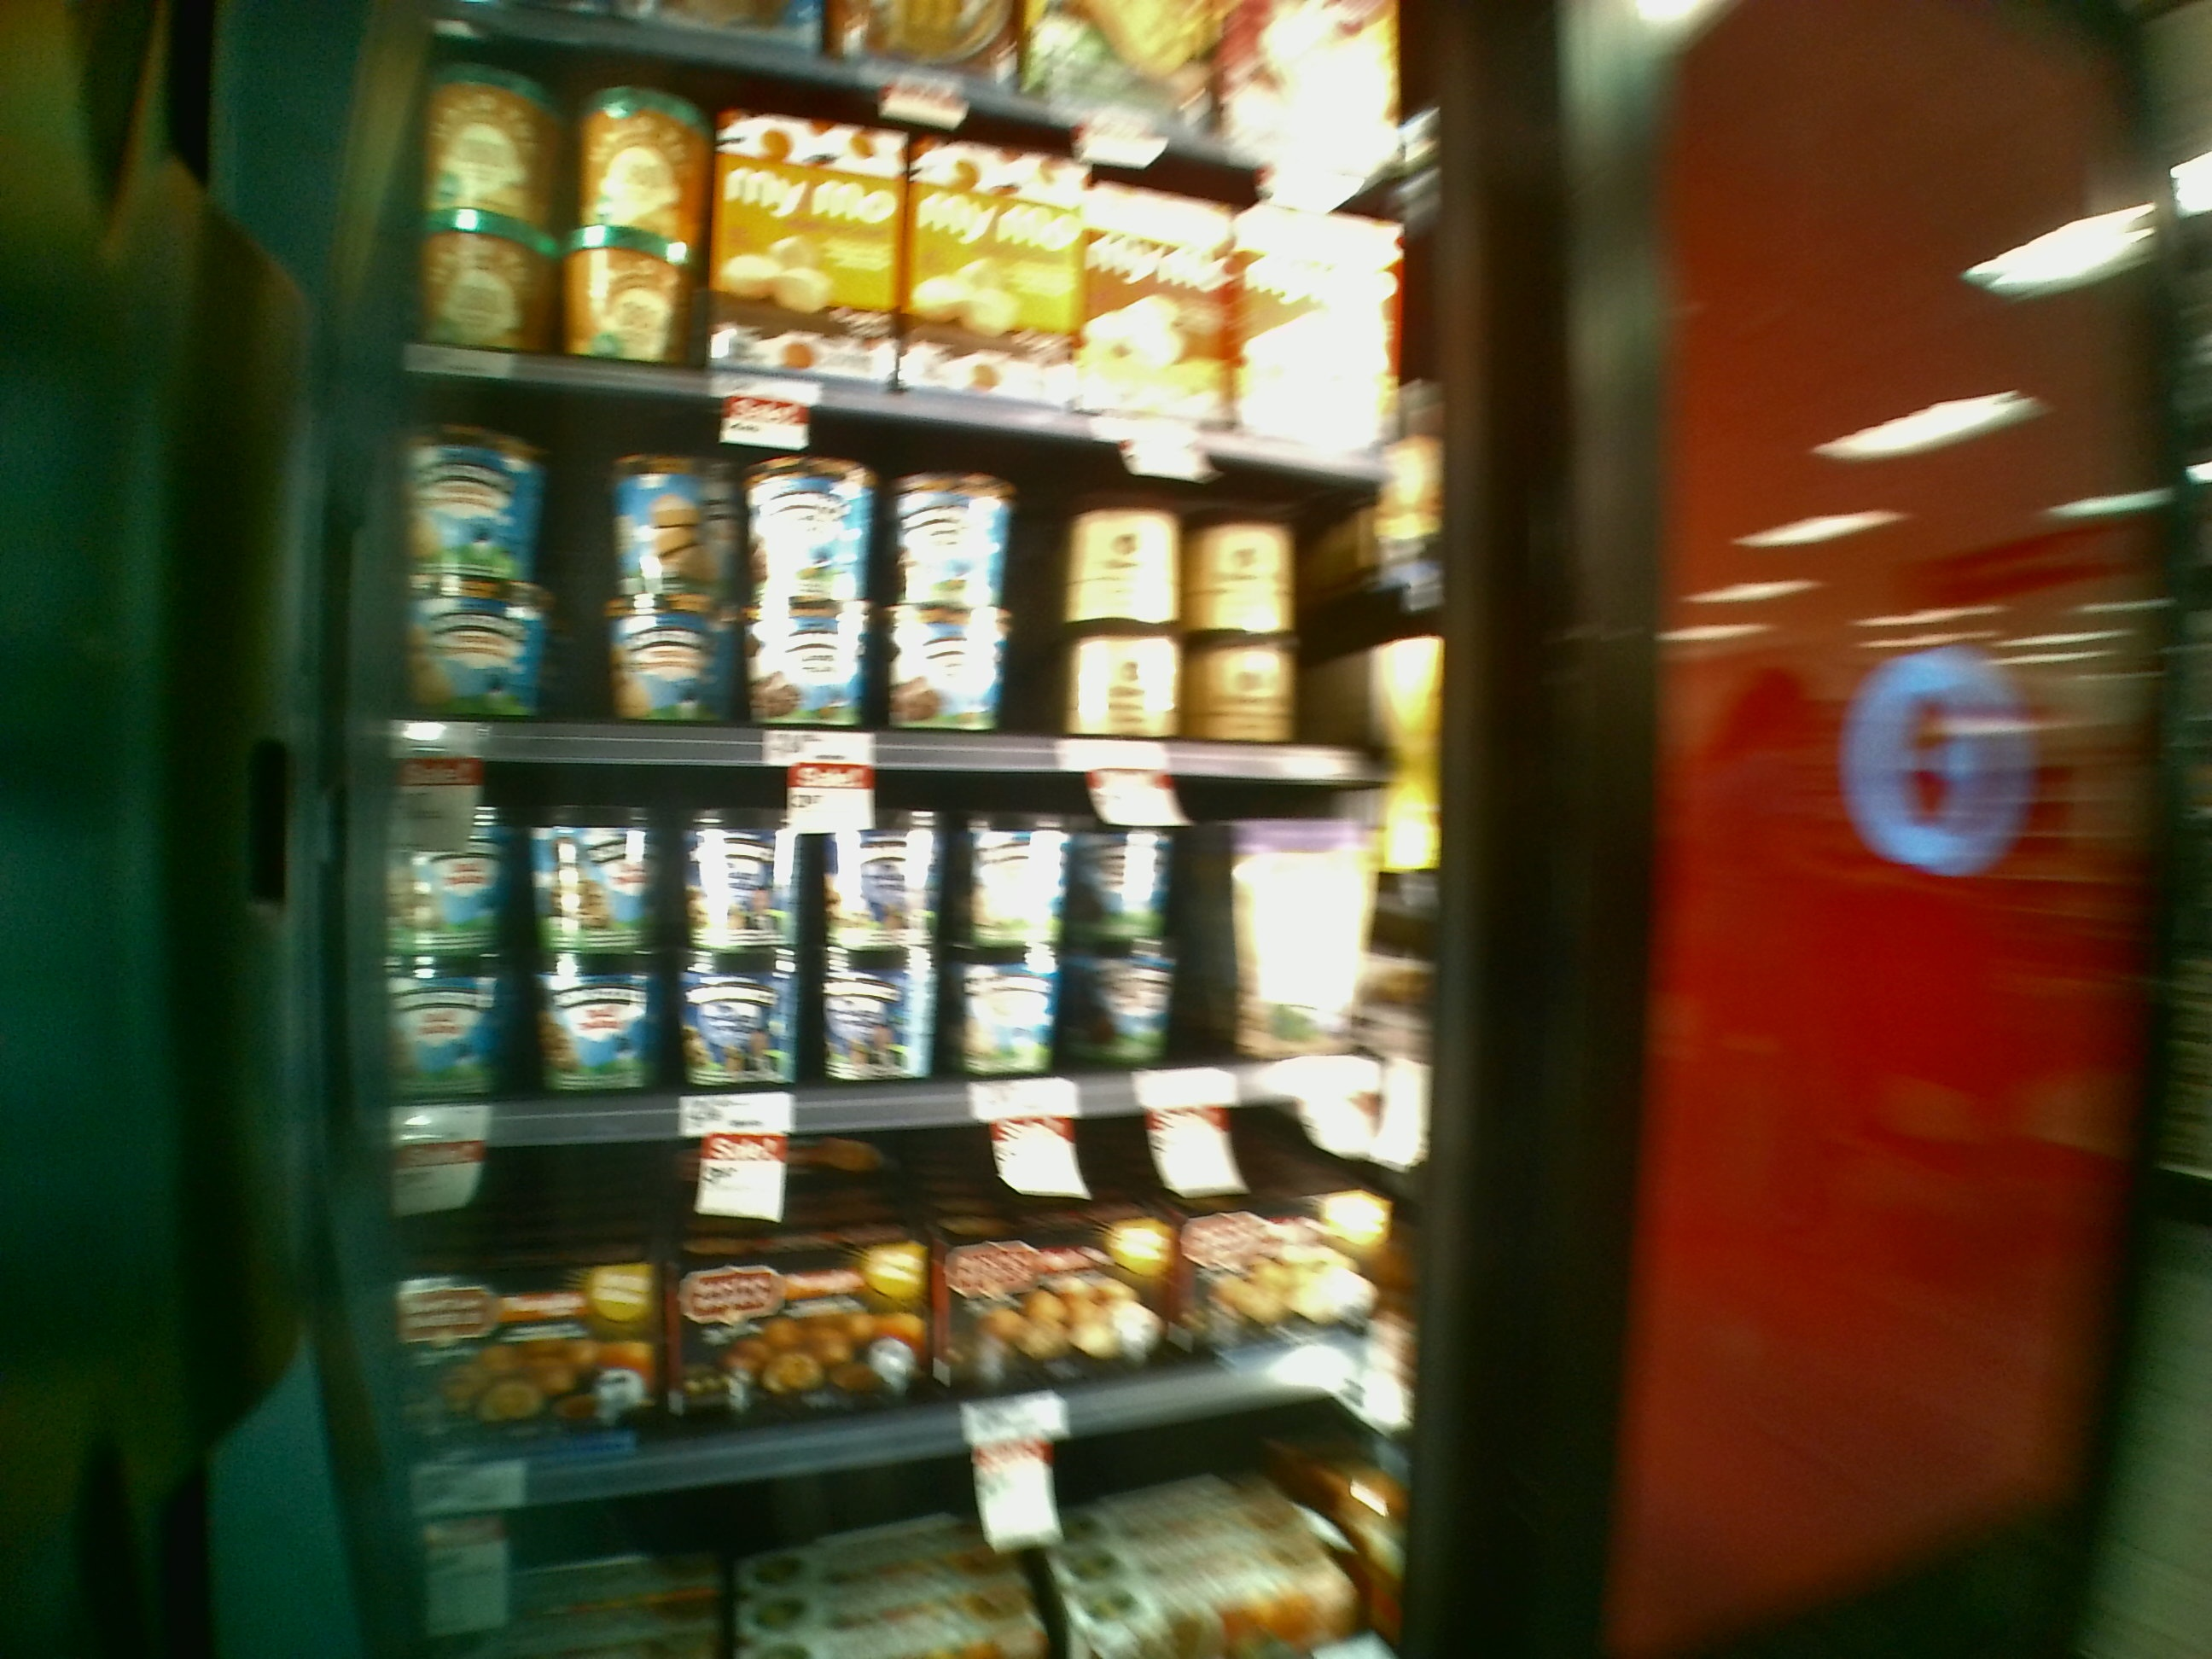shelf: (394, 369, 1411, 791), (376, 730, 1395, 1129), (374, 1117, 1406, 1446)
